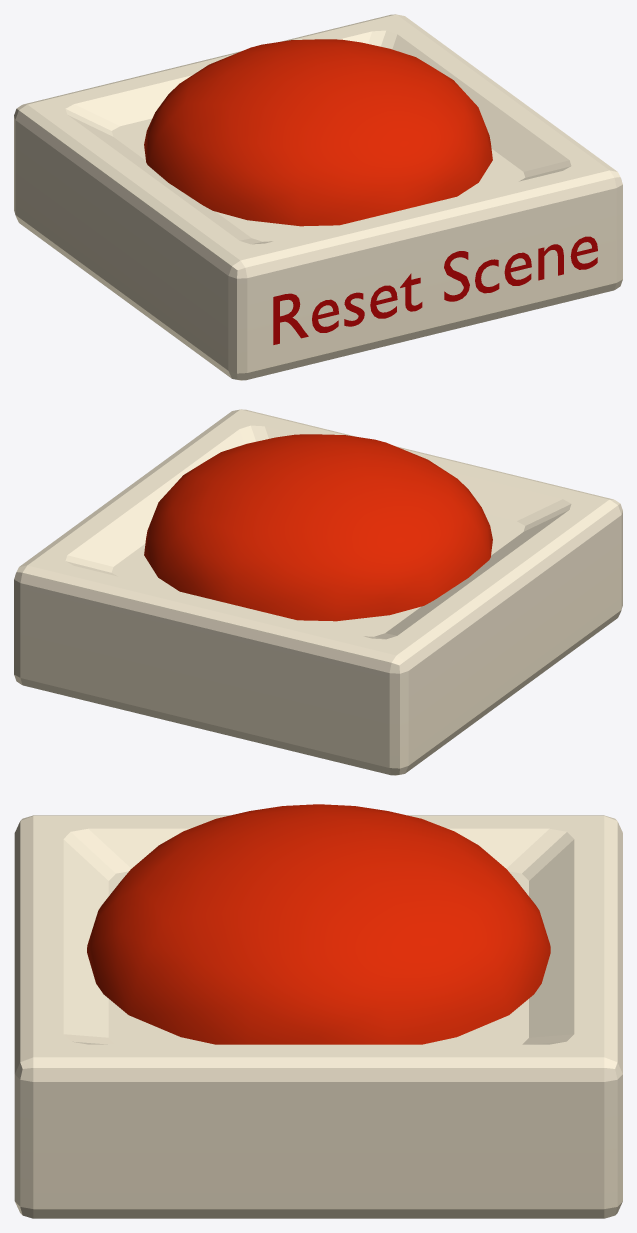
The model's file is resetbutton.glb.
The picture shows the model from 3 angles, top to bottom: view 1: azimuth 30°, elevation 25°; view 2: azimuth 150°, elevation 25°; view 3: azimuth 270°, elevation 25°; orthographic projection. The views are drawn at different scales.
Visible parts, largest first — view 1: Pad, Button, text; view 2: Pad, Button; view 3: Pad, Button.
Part boxes in pixels (x1=…): Pad: x1=14, y1=14, x2=622, y2=380; Button: x1=144, y1=39, x2=492, y2=226; text: x1=273, y1=236, x2=597, y2=344; Pad: x1=14, y1=409, x2=622, y2=775; Button: x1=144, y1=434, x2=492, y2=621; Pad: x1=14, y1=815, x2=622, y2=1218; Button: x1=87, y1=804, x2=550, y2=1044.
Size of the model in its own units: 0.229 by 0.1076 by 0.2293.
3 materials, 1 textured.
